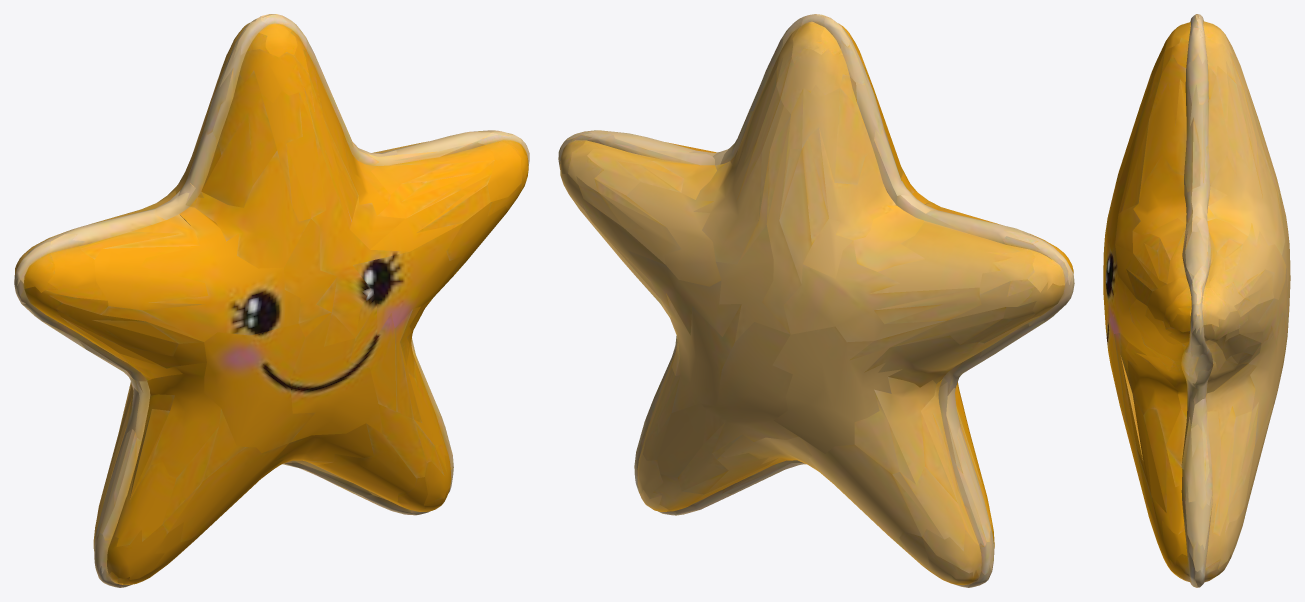
Rendered from star.glb.
The picture shows the model from 3 angles, left to right: view 1: azimuth 30°, elevation 25°; view 2: azimuth 150°, elevation 25°; view 3: azimuth 270°, elevation 25°; orthographic projection. The views are drawn at different scales.
Visible parts, largest first — view 1: mesh_node; view 2: mesh_node; view 3: mesh_node.
Boxes of the visible parts, x1,y1,x2,y2 form: mesh_node: (14, 14, 529, 587); mesh_node: (558, 14, 1074, 587); mesh_node: (1103, 14, 1290, 587).
Bounding box in the file's own units: 1.9 × 1.9 × 0.6462.
Materials: 1 (1 with a texture image).
